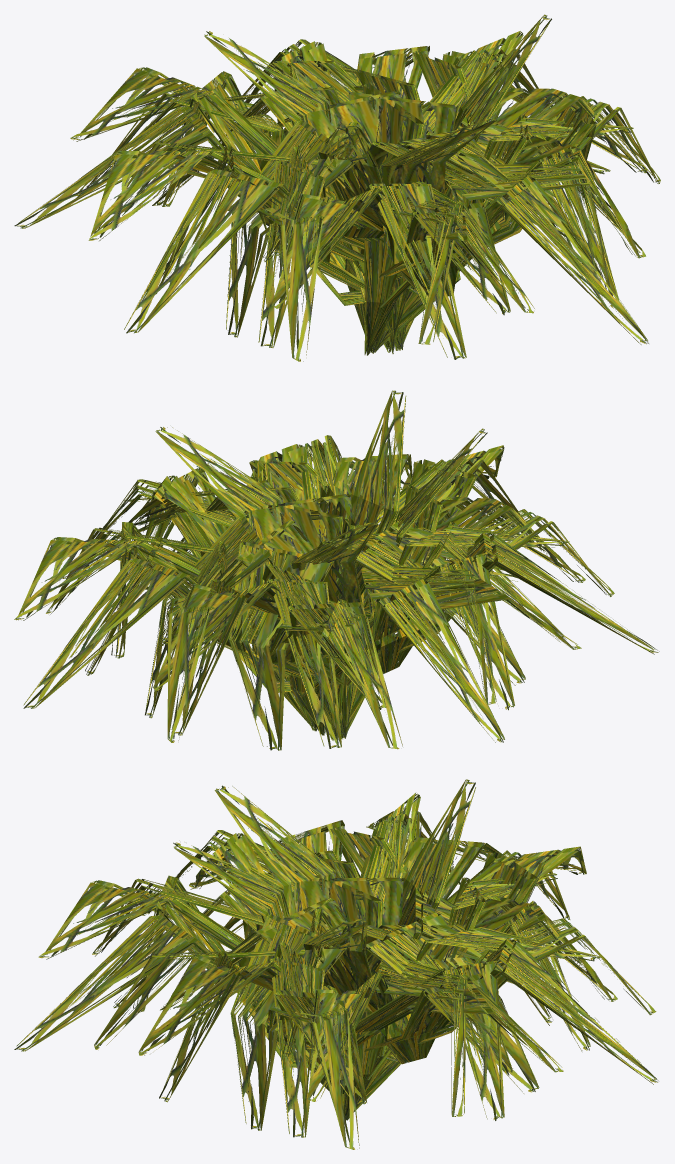
File: Strauch3.fbx
The picture shows the model from 3 angles, top to bottom: view 1: azimuth 30°, elevation 25°; view 2: azimuth 150°, elevation 25°; view 3: azimuth 270°, elevation 25°; orthographic projection. The views are drawn at different scales.
Visible parts, largest first — view 1: Cube.004; view 2: Cube.004; view 3: Cube.004.
Boxes of the visible parts, x1,y1,x2,y2 form: Cube.004: [14, 14, 660, 361]; Cube.004: [14, 390, 659, 750]; Cube.004: [14, 779, 658, 1149].
Size of the model in its own units: 116 by 56.78 by 117.
Materials: 1 (1 with a texture image).
